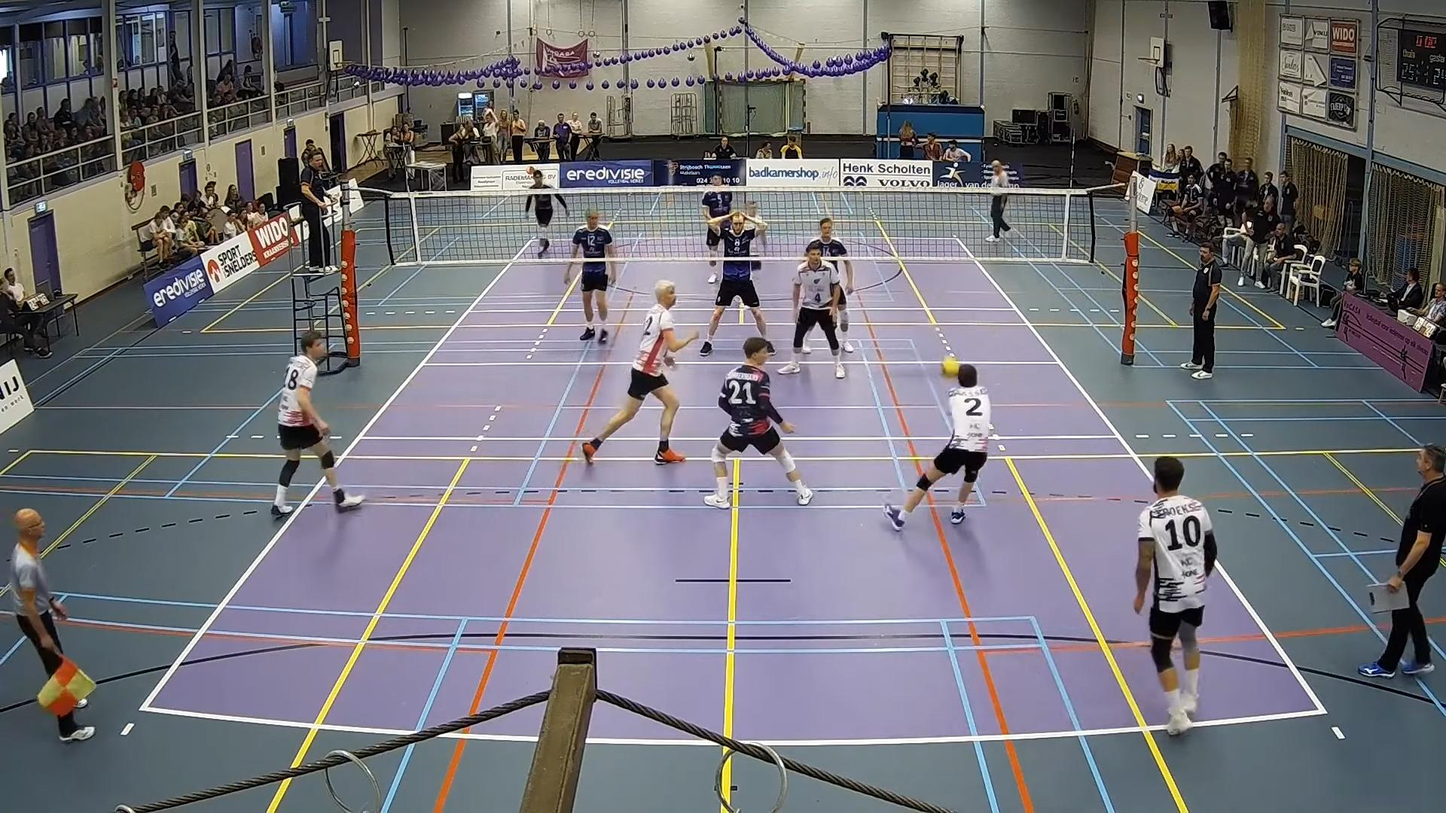Player: (1133, 457, 1216, 735), (582, 280, 697, 464), (704, 336, 813, 507), (271, 331, 363, 516), (700, 211, 766, 355), (779, 241, 844, 376), (564, 210, 614, 343), (808, 217, 854, 352), (525, 169, 566, 257), (702, 175, 732, 221)
Receive: (880, 355, 995, 528)
ball: (938, 358, 969, 379)
